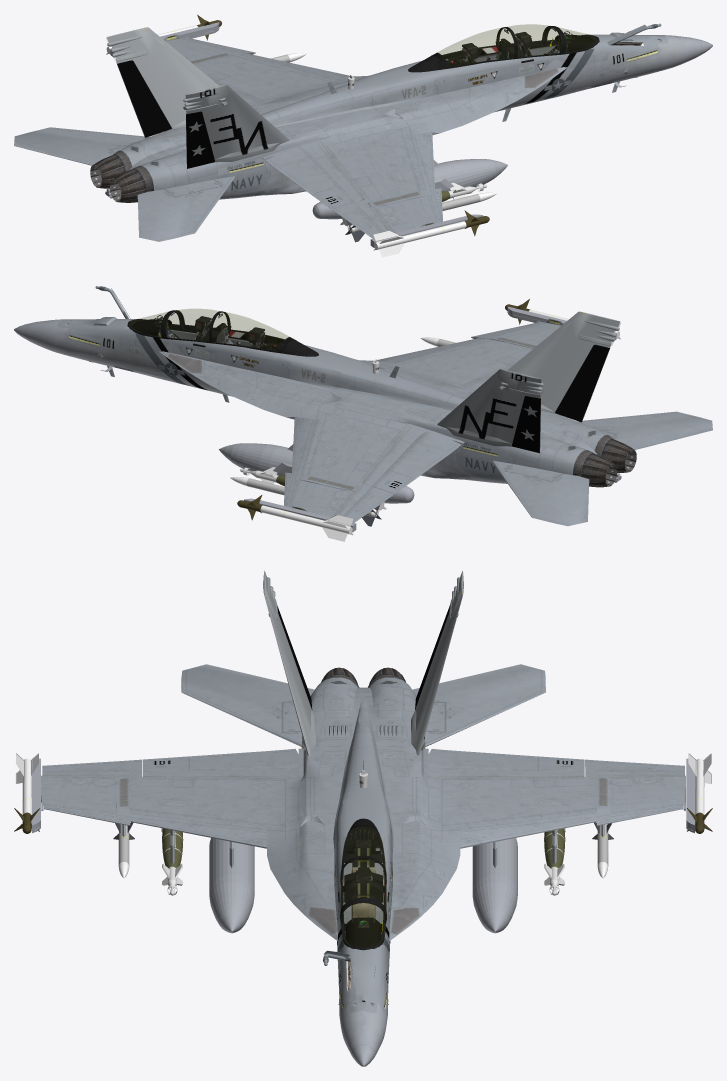
The picture shows the model from 3 angles, top to bottom: view 1: azimuth 30°, elevation 25°; view 2: azimuth 150°, elevation 25°; view 3: azimuth 270°, elevation 25°; orthographic projection. The views are drawn at different scales.
Visible parts, largest first — view 1: RefDoor1.001; view 2: RefDoor1.001; view 3: RefDoor1.001.
Boxes of the visible parts, <box> form: RefDoor1.001: <box>14,14,712,257</box>; RefDoor1.001: <box>14,286,712,541</box>; RefDoor1.001: <box>14,570,712,1066</box>.
Size of the model in its own units: 19.01 by 4.36 by 14.39.
12 materials, 8 textured.
